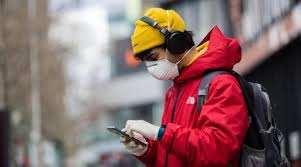with_mask: (134, 18, 198, 83)
